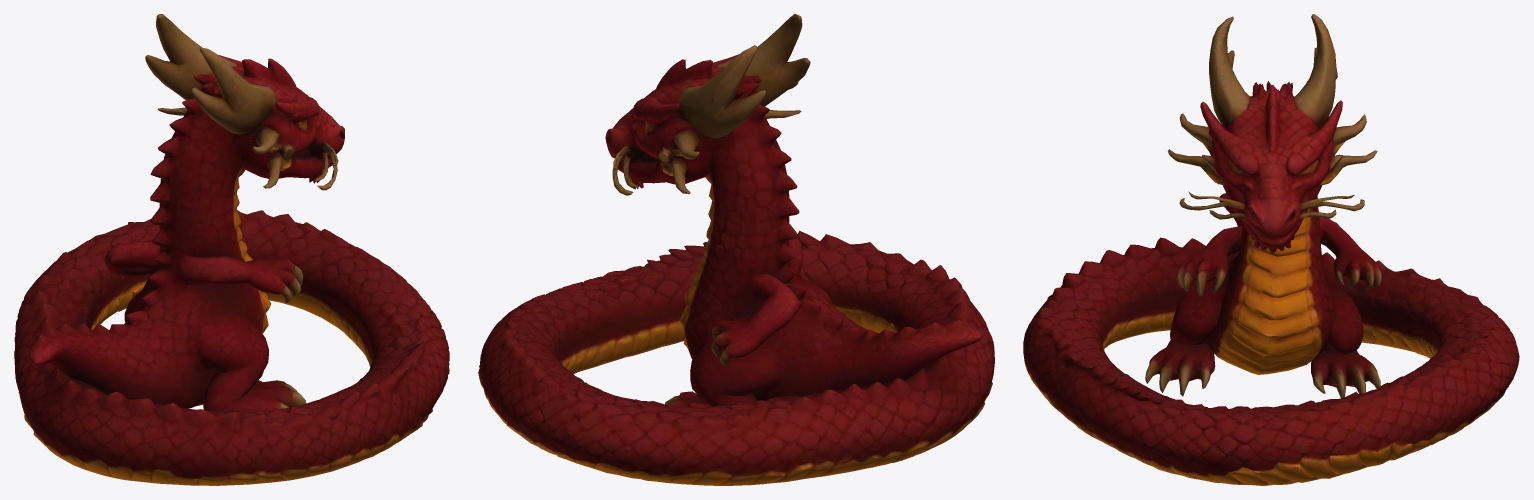
File: fireDragon.glb
3 views of the same model, side by side, from view 1: azimuth 30°, elevation 25°; view 2: azimuth 150°, elevation 25°; view 3: azimuth 270°, elevation 25° (orthographic). The views are drawn at different scales.
Parts seen in each view (by area): view 1: geometry_0; view 2: geometry_0; view 3: geometry_0.
Boxes of the visible parts, bbox=[...] form: geometry_0: bbox=[14, 14, 449, 485]; geometry_0: bbox=[478, 14, 994, 485]; geometry_0: bbox=[1023, 14, 1519, 485].
Bounding box in the file's own units: 0.9464 × 0.8256 × 0.9976.
1 material, 1 textured.
